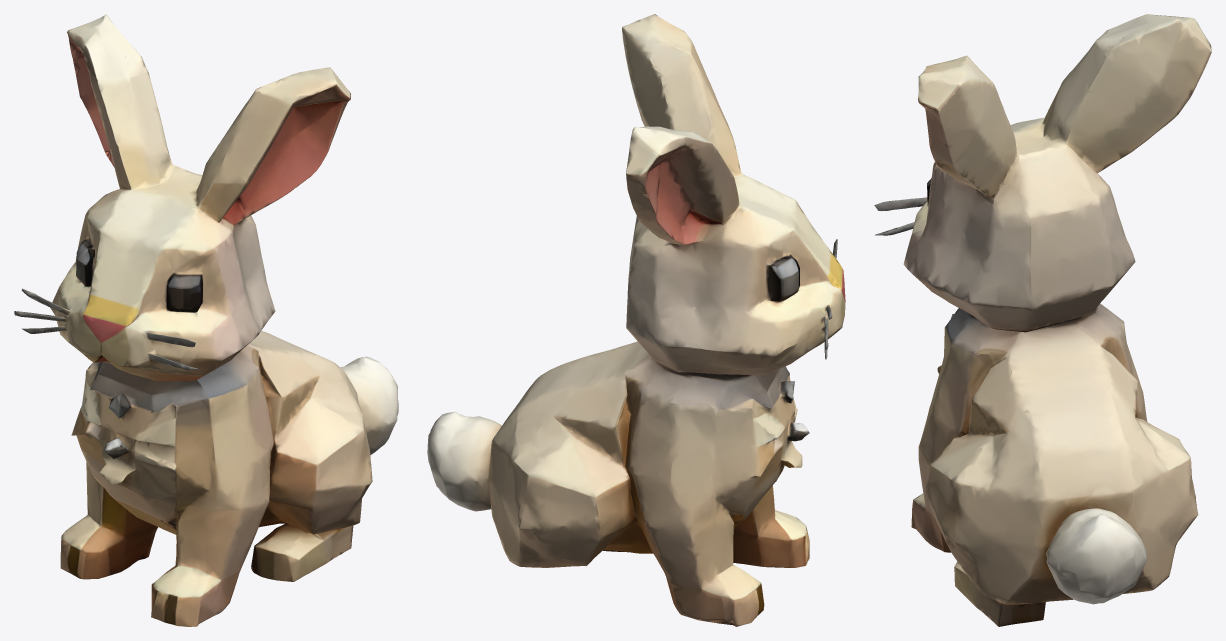
File: rabbit.glb
3 views of the same model, side by side, from view 1: azimuth 30°, elevation 25°; view 2: azimuth 150°, elevation 25°; view 3: azimuth 270°, elevation 25° (orthographic). The views are drawn at different scales.
Parts seen in each view (by area): view 1: tripo_node_c648475d-c0da-4d49-8051-984c68872c1b; view 2: tripo_node_c648475d-c0da-4d49-8051-984c68872c1b; view 3: tripo_node_c648475d-c0da-4d49-8051-984c68872c1b.
Boxes of the visible parts, left/top/right/bottom form: tripo_node_c648475d-c0da-4d49-8051-984c68872c1b: left=14, top=14, right=398, bottom=626; tripo_node_c648475d-c0da-4d49-8051-984c68872c1b: left=427, top=14, right=845, bottom=626; tripo_node_c648475d-c0da-4d49-8051-984c68872c1b: left=874, top=14, right=1211, bottom=626.
Bounding box in the file's own units: 0.7974 × 1 × 0.5795.
1 material, 1 textured.
